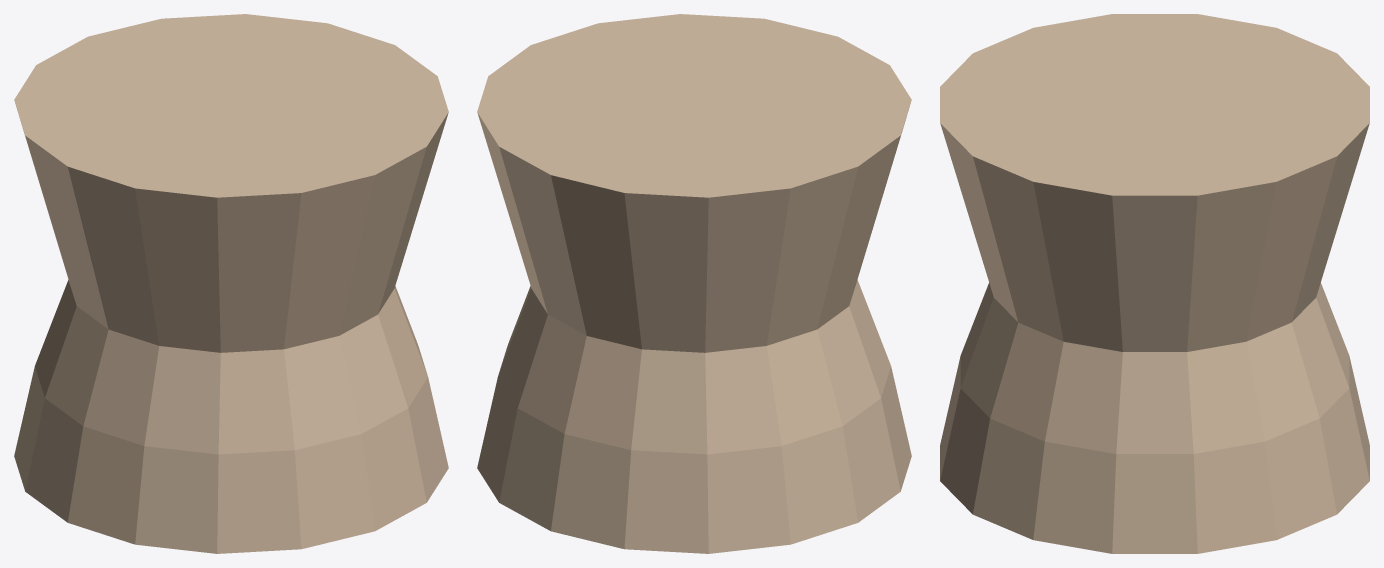
The model's file is sm_collider.obj.
The picture shows the model from 3 angles, left to right: view 1: azimuth 30°, elevation 25°; view 2: azimuth 150°, elevation 25°; view 3: azimuth 270°, elevation 25°; orthographic projection.
Visible parts, largest first — view 1: c1, c2; view 2: c1, c2; view 3: c1, c2.
Boxes of the visible parts, box(x1,y1,x2,y2) form: c1: box(14, 14, 448, 352); c2: box(14, 280, 448, 553); c1: box(477, 14, 911, 352); c2: box(477, 280, 911, 553); c1: box(940, 14, 1369, 351); c2: box(940, 282, 1369, 553).
Bounding box in the file's own units: 0.625 × 0.575 × 0.625.
